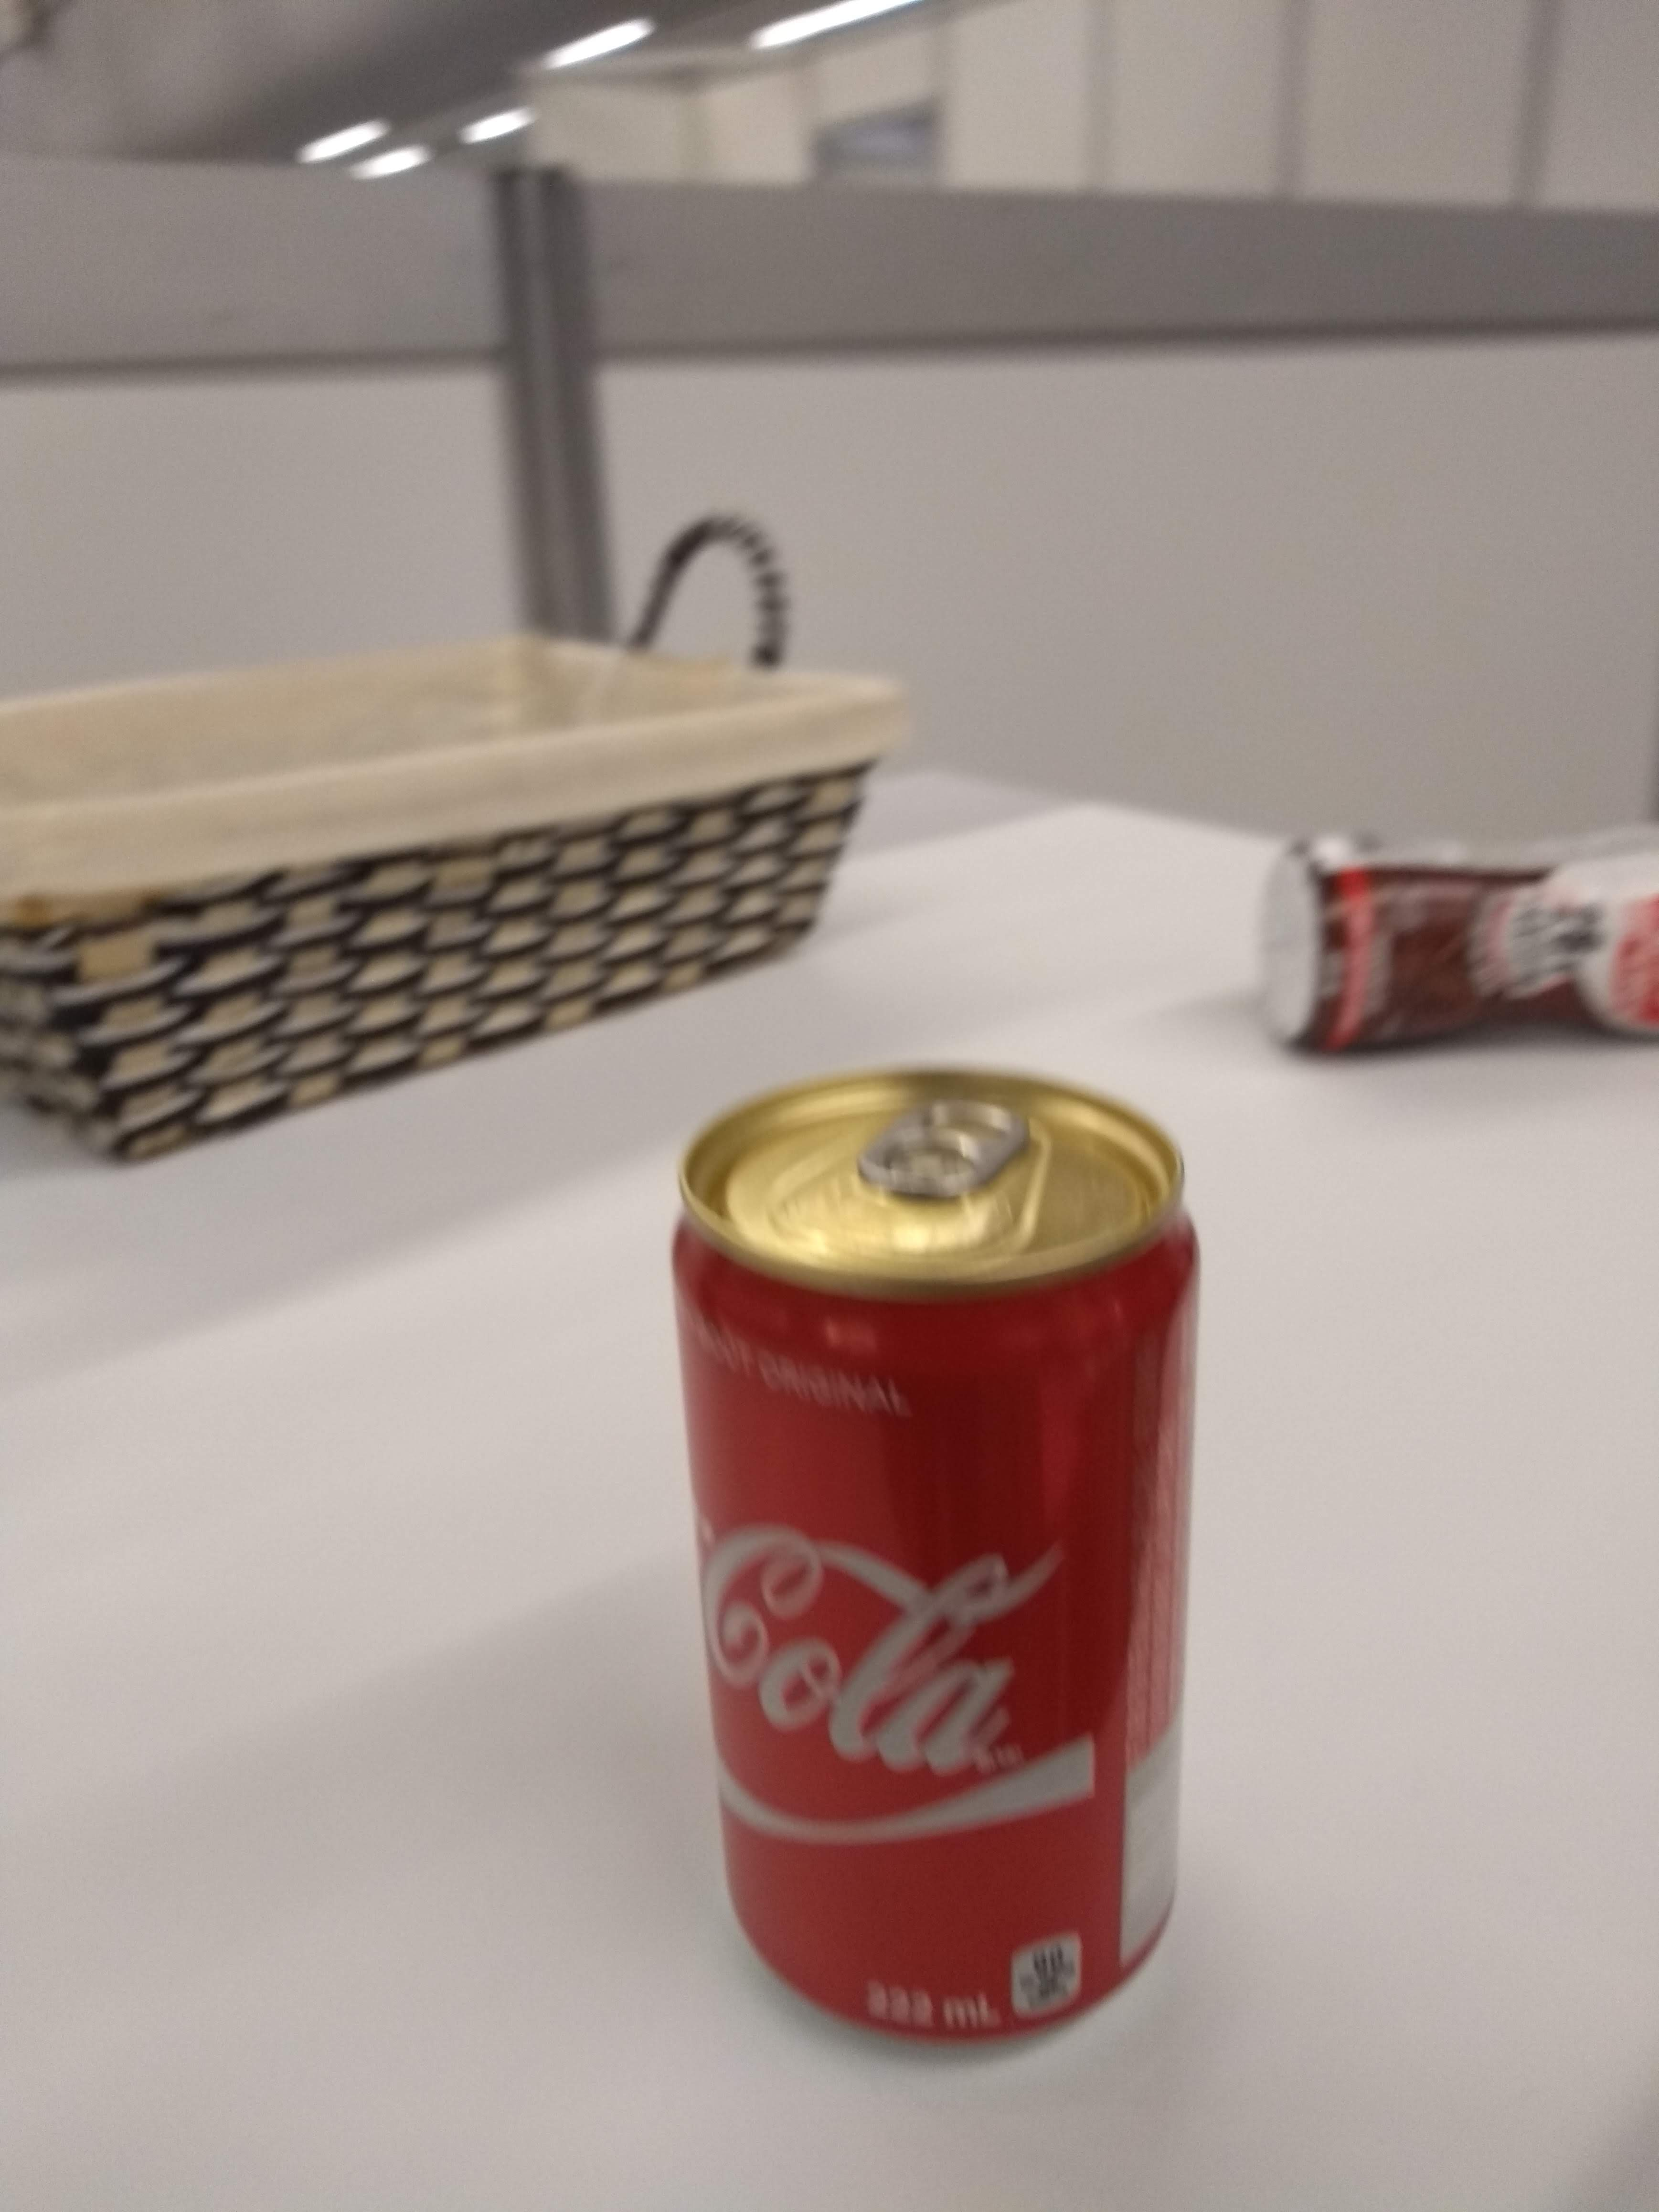coke: (650, 1050, 1230, 2062)
